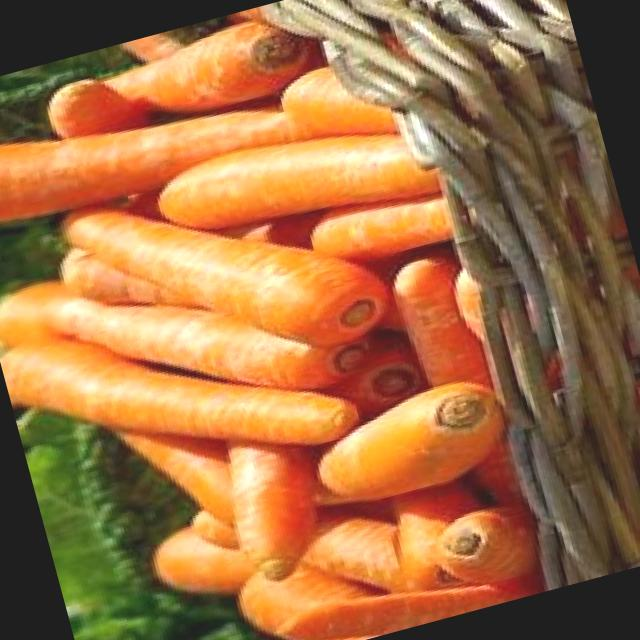carrot: (63, 201, 405, 351), (0, 309, 362, 446), (0, 98, 300, 219), (318, 379, 508, 501)
